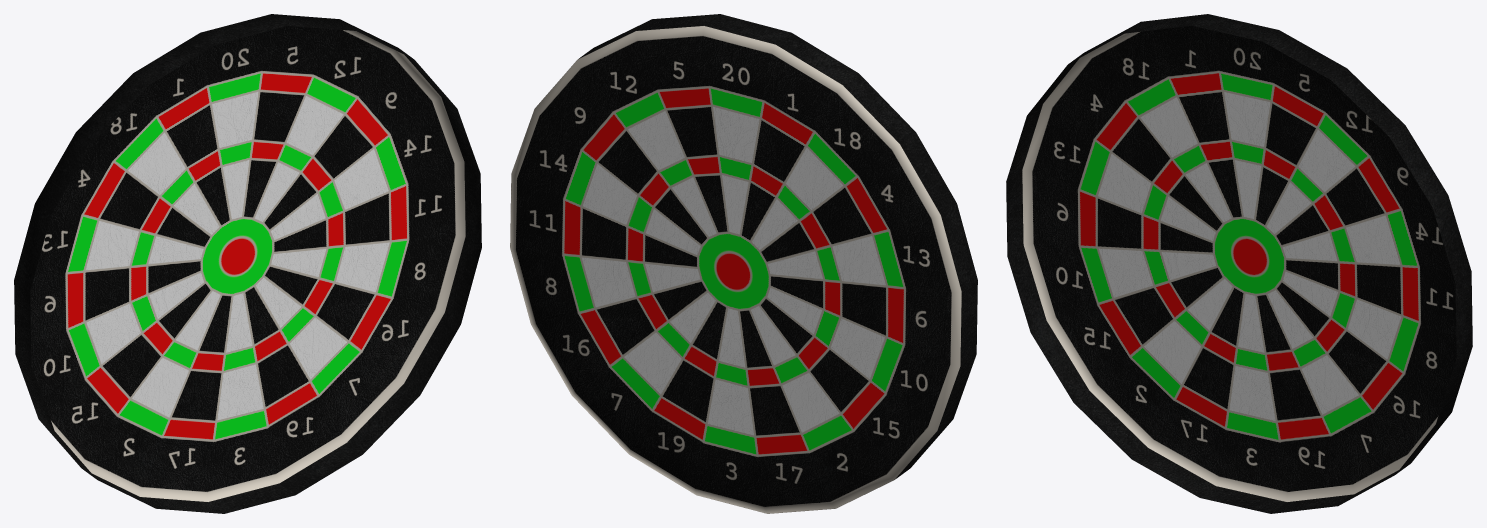
Rendered from Diana.fbx.
3 views of the same model, side by side, from view 1: azimuth 30°, elevation 25°; view 2: azimuth 150°, elevation 25°; view 3: azimuth 330°, elevation 25° (orthographic).
Visible parts, largest first — view 1: Cylinder.001; view 2: Cylinder.001; view 3: Cylinder.001.
Boxes of the visible parts, <box> form: Cylinder.001: <box>14,14,481,513</box>; Cylinder.001: <box>510,14,977,513</box>; Cylinder.001: <box>1006,14,1472,513</box>.
Bounding box in the file's own units: 272 × 272 × 19.09.
Materials: 1 (1 with a texture image).
